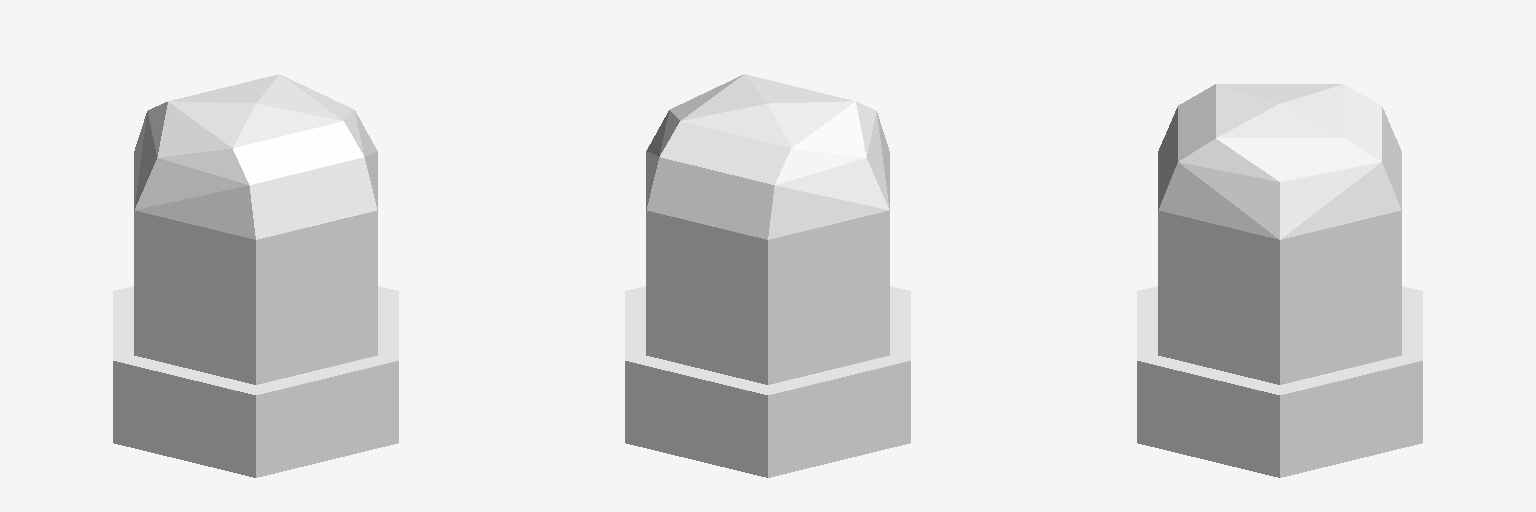
File: hatena_red_switch.obj
The picture shows the model from 3 angles: view 1: azimuth 30°, elevation 25°; view 2: azimuth 150°, elevation 25°; view 3: azimuth 270°, elevation 25°; orthographic projection.
Visible parts, largest first — view 1: skl_root, wing_switch_joint; view 2: skl_root, wing_switch_joint; view 3: skl_root, wing_switch_joint.
Boxes of the visible parts, box(x1,y1,x2,y2) form: skl_root: box(113, 75, 398, 477); wing_switch_joint: box(134, 74, 377, 383); skl_root: box(625, 75, 910, 477); wing_switch_joint: box(646, 74, 889, 354); skl_root: box(1137, 84, 1422, 477); wing_switch_joint: box(1158, 84, 1401, 383).
Size of the model in its own units: 31.66 by 32.3 by 27.42.